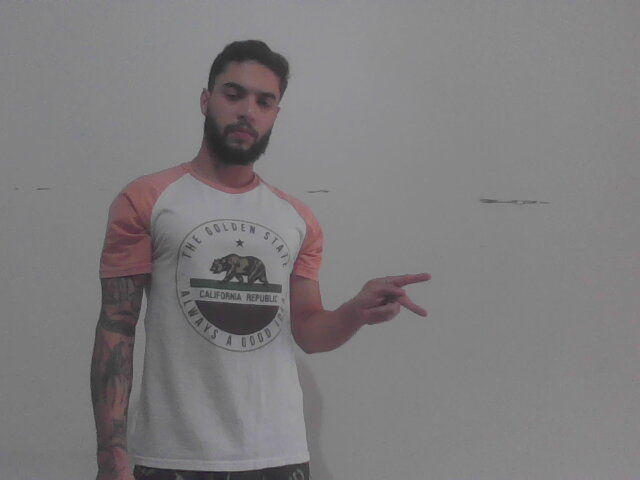k: (349, 268, 433, 336)
